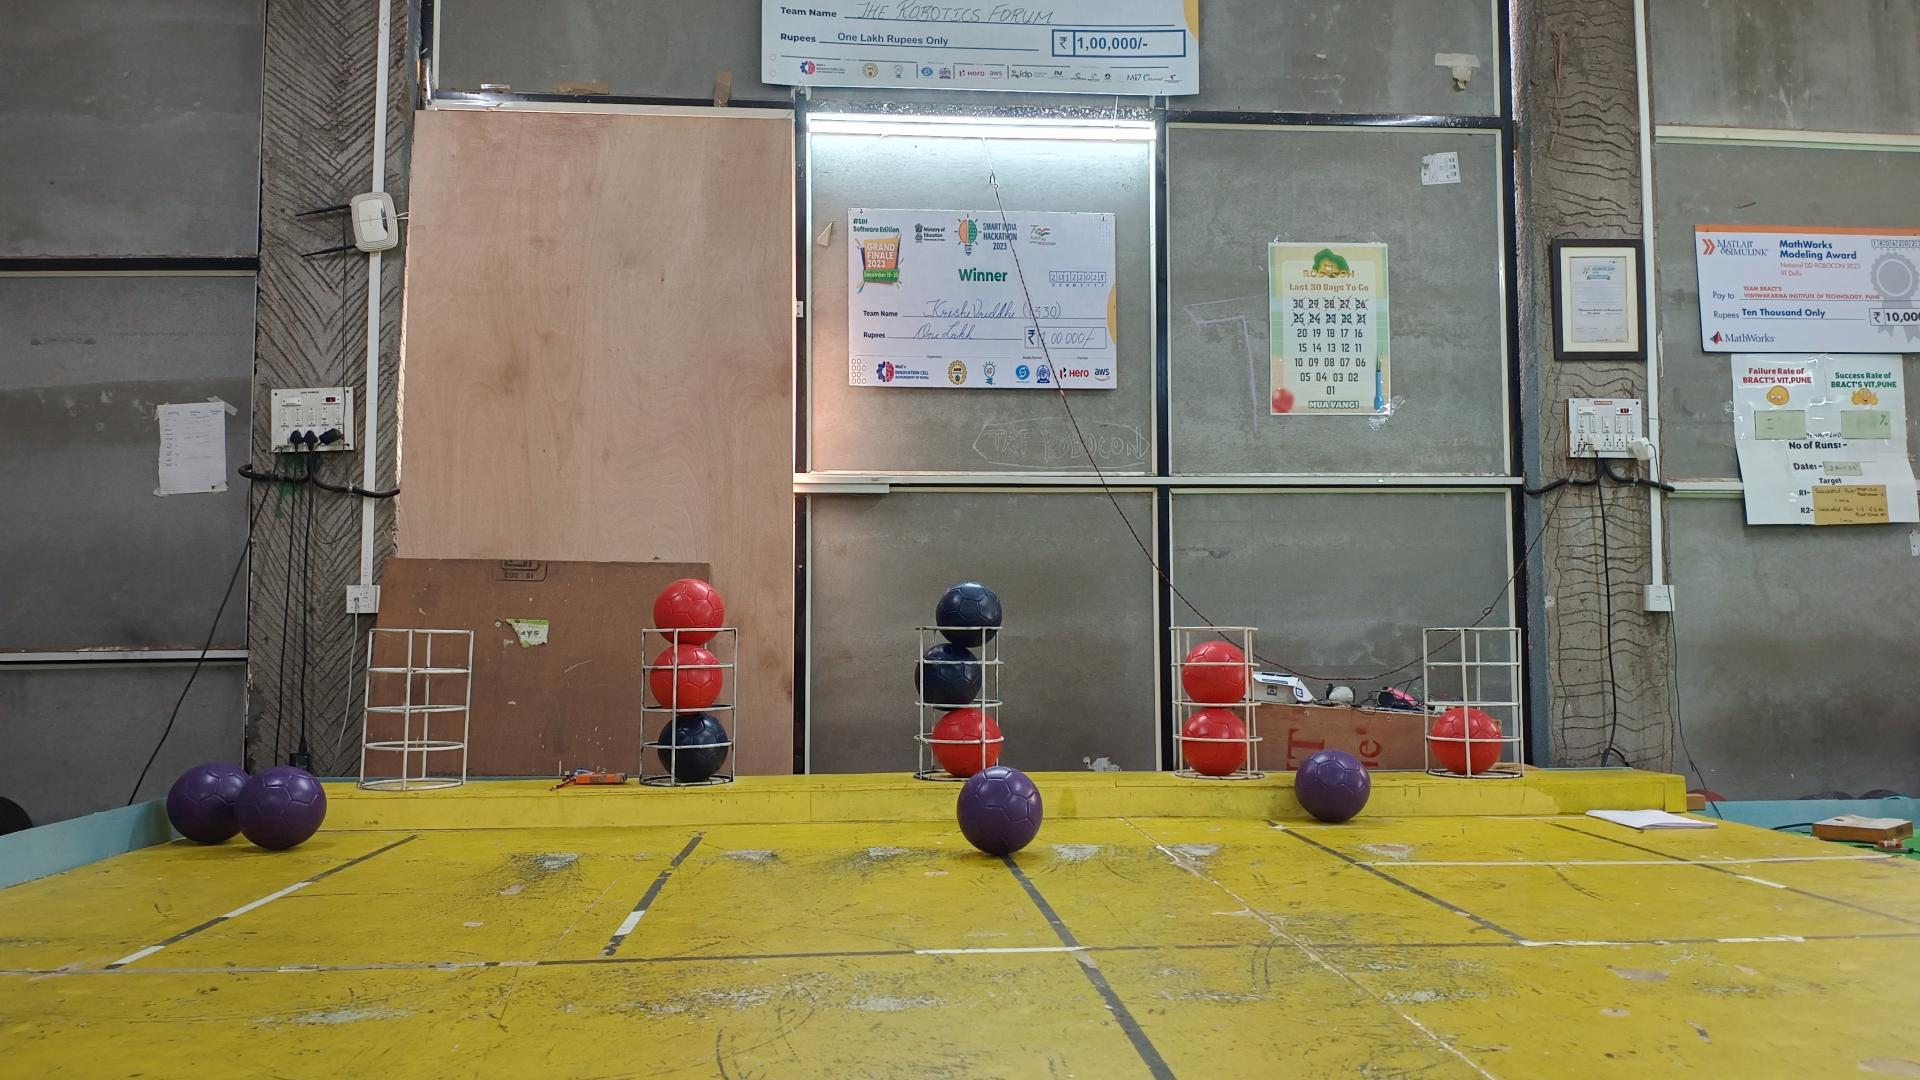dhoka: (657, 712, 728, 783), (938, 582, 1001, 649), (919, 641, 982, 705)
laale: (653, 578, 724, 649), (1428, 705, 1503, 773), (649, 645, 724, 708), (934, 708, 1001, 777), (1182, 708, 1249, 777), (1182, 641, 1249, 705)
